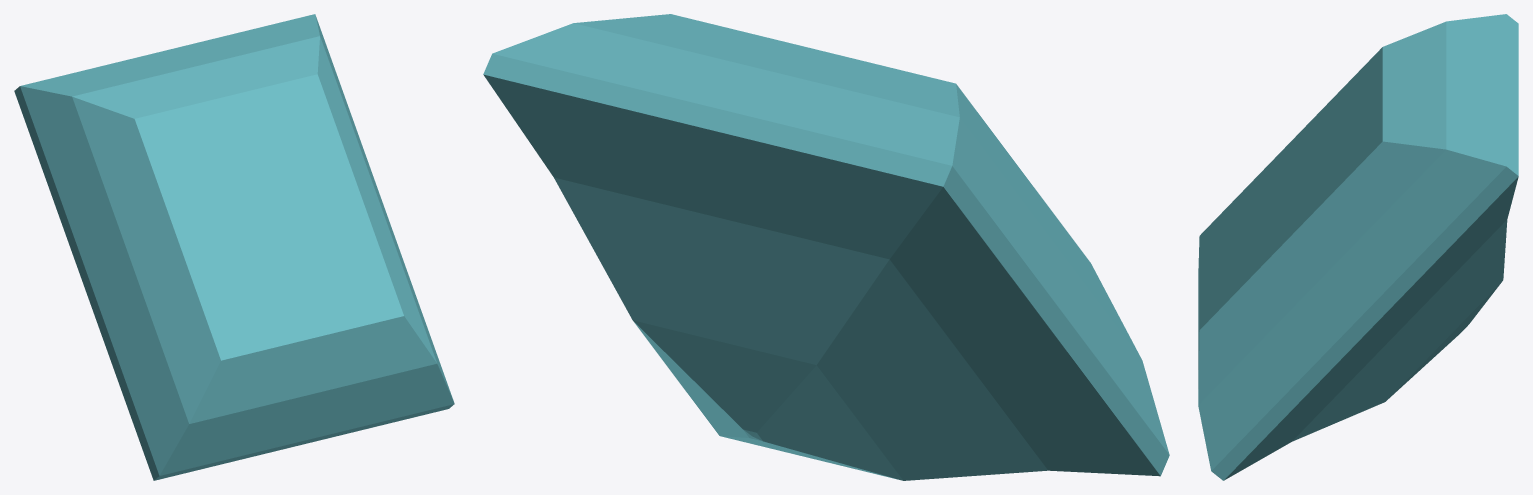
The model's file is aquamarine.glb.
The picture shows the model from 3 angles, left to right: view 1: azimuth 30°, elevation 25°; view 2: azimuth 150°, elevation 25°; view 3: azimuth 270°, elevation 25°; orthographic projection. The views are drawn at different scales.
Visible parts, largest first — view 1: aquamarine; view 2: aquamarine; view 3: aquamarine.
Boxes of the visible parts, bbox=[...] form: aquamarine: bbox=[14, 14, 454, 480]; aquamarine: bbox=[483, 14, 1169, 480]; aquamarine: bbox=[1198, 14, 1518, 480].
Bounding box in the file's own units: 1.84 × 1.8 × 1.64.
